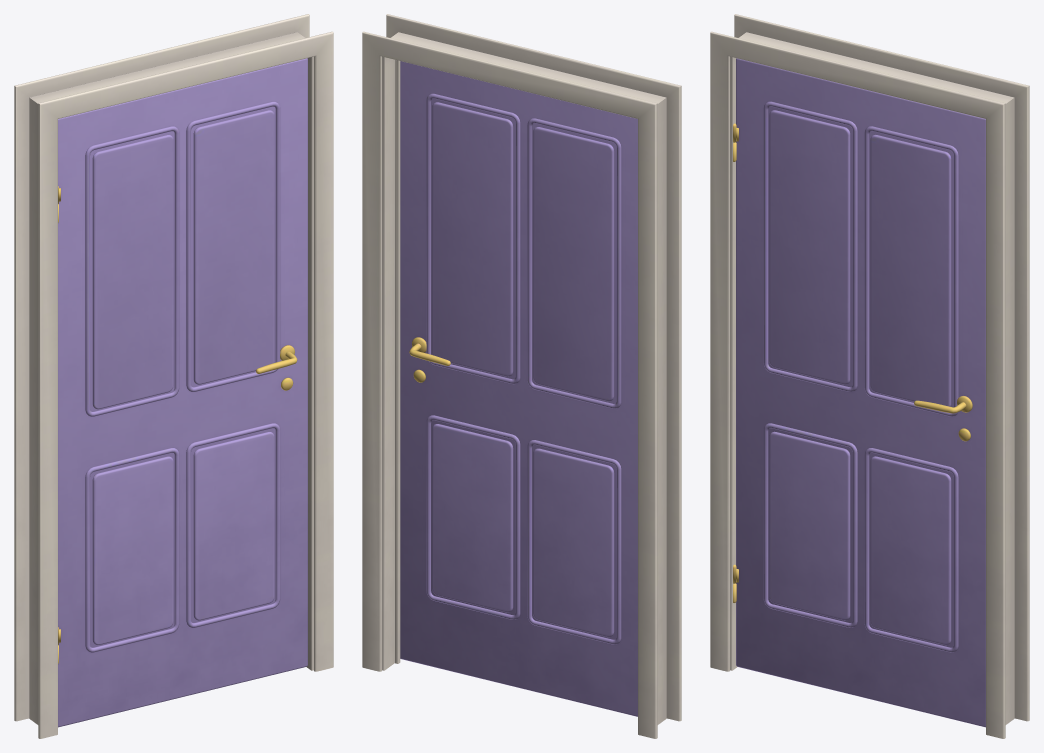
Rendered from interior_door.glb.
3 renders of one model, left to right at view 1: azimuth 30°, elevation 25°; view 2: azimuth 150°, elevation 25°; view 3: azimuth 330°, elevation 25°, orthographic.
Visible parts, largest first — view 1: door_leaf, door_body; view 2: door_leaf, door_body; view 3: door_leaf, door_body.
Part boxes in pixels (left/top/right/bottom): door_leaf: left=58, top=58, right=307, bottom=727; door_body: left=14, top=14, right=333, bottom=738; door_leaf: left=400, top=61, right=637, bottom=716; door_body: left=362, top=14, right=681, bottom=738; door_leaf: left=733, top=58, right=985, bottom=727; door_body: left=710, top=14, right=1029, bottom=738.
Size of the model in its own units: 1.01 by 2.07 by 0.1994.
2 materials, 2 textured.
